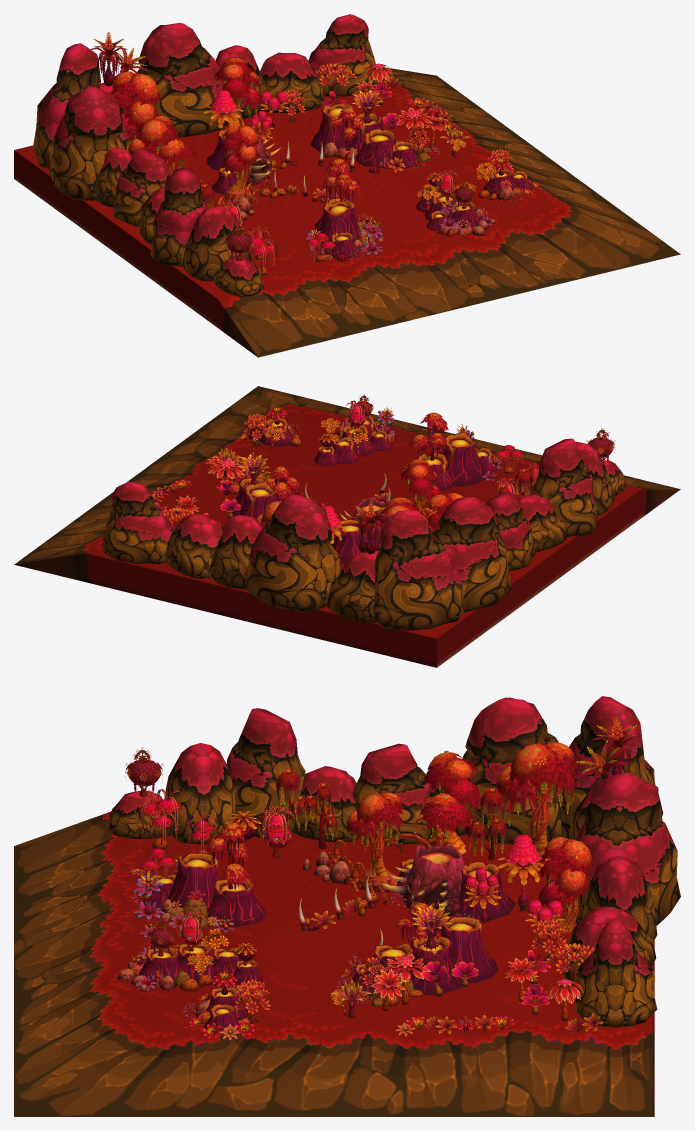
File: Lava_Land_Sample.FBX
The picture shows the model from 3 angles, top to bottom: view 1: azimuth 30°, elevation 25°; view 2: azimuth 150°, elevation 25°; view 3: azimuth 270°, elevation 25°; orthographic projection. The views are drawn at different scales.
Visible parts, largest first — view 1: Land_01, Land_Rock_01a007, Red_Tree_08b001, Red_Tree_08c002, Red_Tree_08b002, Red_Tree_08b003, Lava_Beast_Hideout002, Volcano_011, Volcano_009, Red_Tree_09a002, Volcano_007, Red_Tree_11a002 (+10 smaller); view 2: Land_Rock_01a007, Land_01, Volcano_011, Red_Tree_08b003, Red_Tree_09a002, Volcano_007, Volcano_015, Red_Tree_11a002, Red_Tree_09b003, Lava_Beast_Hideout002, Volcano_012, Red_Tree_08c002 (+11 smaller); view 3: Land_01, Land_Rock_01a007, Red_Tree_08b001, Red_Tree_08c002, Lava_Beast_Hideout002, Red_Tree_08b002, Red_Tree_08b003, Volcano_007, Volcano_011, Volcano_012, Red_Tree_10a002, Volcano_008 (+28 smaller).
Boxes of the visible parts, <box> form: Land_01: <box>14,68,680,357</box>; Land_Rock_01a007: <box>33,14,377,297</box>; Red_Tree_08b001: <box>111,71,160,141</box>; Red_Tree_08c002: <box>128,115,197,176</box>; Red_Tree_08b002: <box>214,56,262,125</box>; Red_Tree_08b003: <box>221,124,259,192</box>; Lava_Beast_Hideout002: <box>219,136,354,198</box>; Volcano_011: <box>319,201,361,250</box>; Volcano_009: <box>356,129,396,167</box>; Red_Tree_09a002: <box>322,159,361,201</box>; Volcano_007: <box>310,103,353,152</box>; Red_Tree_11a002: <box>90,32,127,86</box>; Land_Rock_01a007: <box>102,438,626,630</box>; Land_01: <box>14,386,680,667</box>; Volcano_011: <box>443,432,487,486</box>; Red_Tree_08b003: <box>400,459,442,515</box>; Red_Tree_09a002: <box>408,412,448,460</box>; Volcano_007: <box>238,481,276,518</box>; Volcano_015: <box>331,519,366,564</box>; Red_Tree_11a002: <box>352,500,388,554</box>; Red_Tree_09b003: <box>263,466,299,501</box>; Lava_Beast_Hideout002: <box>304,473,390,550</box>; Volcano_012: <box>409,452,453,491</box>; Red_Tree_08c002: <box>424,492,463,532</box>; Land_01: <box>14,811,654,1116</box>; Land_Rock_01a007: <box>107,696,680,1027</box>; Red_Tree_08b001: <box>496,742,577,861</box>; Red_Tree_08c002: <box>359,750,484,854</box>; Lava_Beast_Hideout002: <box>298,845,464,957</box>; Red_Tree_08b002: <box>538,837,593,932</box>; Red_Tree_08b003: <box>346,792,403,877</box>; Volcano_007: <box>441,917,498,983</box>; Volcano_011: <box>167,853,220,910</box>; Volcano_012: <box>207,877,265,926</box>; Red_Tree_10a002: <box>468,787,513,860</box>; Volcano_008: <box>410,936,461,995</box>.
Bounding box in the file's own units: 5233 × 1585 × 5300.
